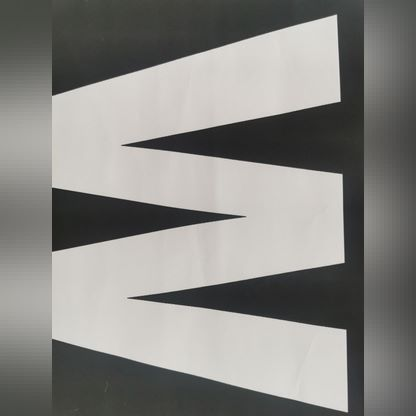W: (40, 37, 364, 407)
